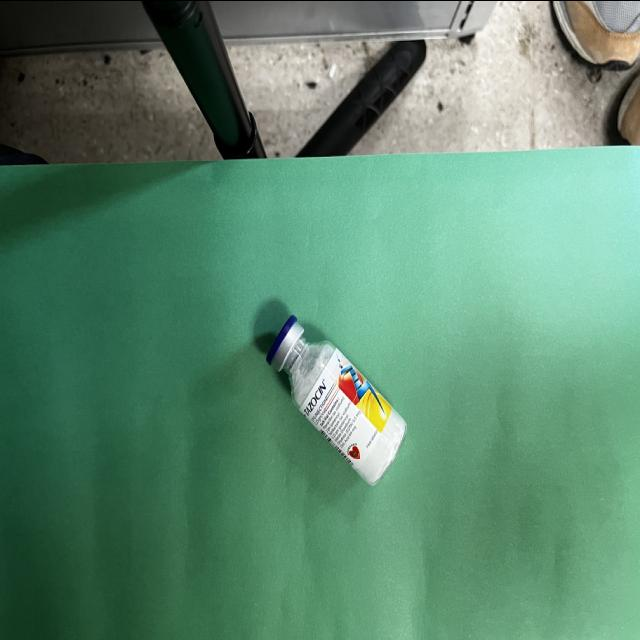Vials: (267, 315, 406, 483)
